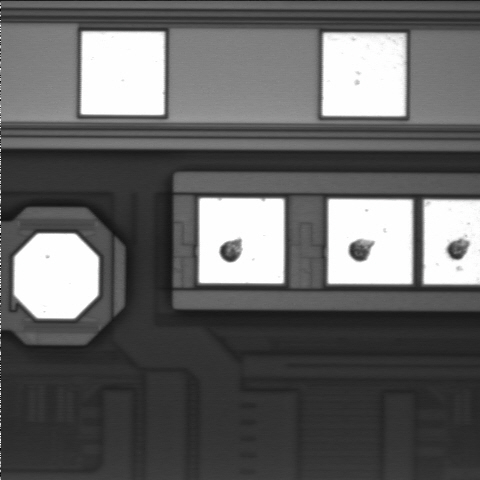pad: (199, 198, 284, 283), (14, 234, 99, 319), (328, 199, 412, 284), (81, 32, 164, 115), (322, 33, 405, 116)
